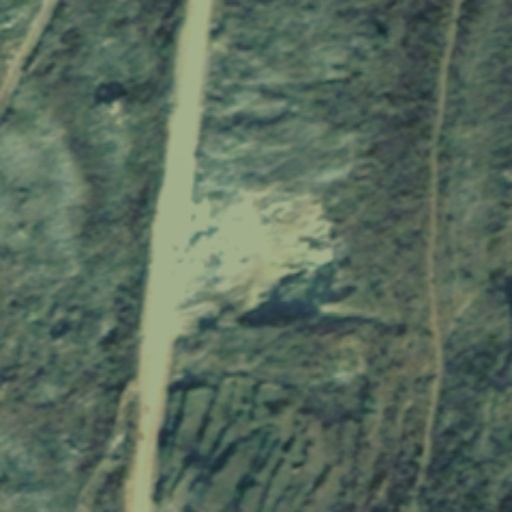landslide: (182, 189, 332, 314)
